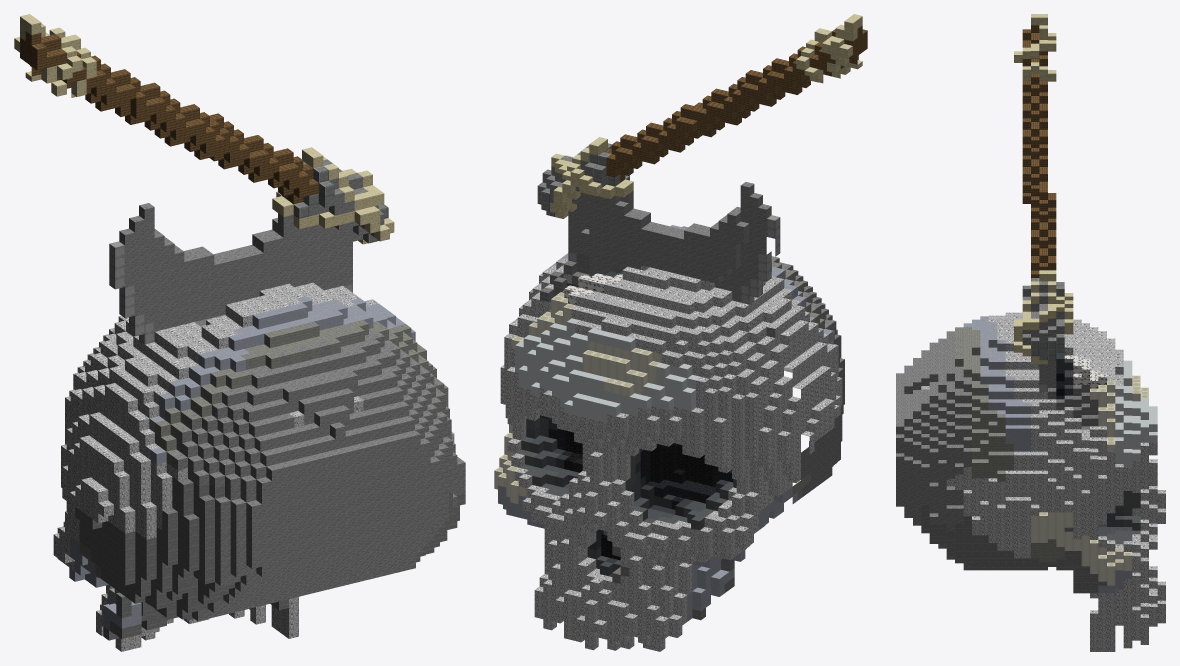
The model's file is Incursion.glb.
The picture shows the model from 3 angles, left to right: view 1: azimuth 30°, elevation 25°; view 2: azimuth 150°, elevation 25°; view 3: azimuth 270°, elevation 25°; orthographic projection. The views are drawn at different scales.
Visible parts, largest first — view 1: node_15, node_12, node_14, node_25, node_1, node_4, node_3, node_27, node_18, node_22, node_10, node_26 (+9 smaller); view 2: node_16, node_19, node_5, node_8, node_13, node_2, node_26, node_25, node_12, node_28, node_20, node_22 (+7 smaller); view 3: node_4, node_5, node_8, node_7, node_1, node_16, node_19, node_10, node_15, node_22, node_12, node_2 (+4 smaller).
Boxes of the visible parts, bbox=[...] form: node_15: bbox=[120, 314, 369, 565]; node_12: bbox=[119, 135, 323, 351]; node_14: bbox=[230, 422, 380, 568]; node_25: bbox=[69, 366, 199, 561]; node_1: bbox=[278, 148, 394, 329]; node_4: bbox=[324, 283, 465, 510]; node_3: bbox=[370, 416, 444, 537]; node_27: bbox=[79, 520, 199, 617]; node_18: bbox=[176, 555, 369, 621]; node_22: bbox=[20, 23, 136, 116]; node_10: bbox=[125, 77, 243, 159]; node_26: bbox=[61, 368, 109, 502]; node_16: bbox=[564, 271, 766, 473]; node_19: bbox=[564, 445, 746, 619]; node_5: bbox=[500, 260, 622, 432]; node_8: bbox=[494, 405, 582, 597]; node_13: bbox=[622, 130, 749, 292]; node_2: bbox=[537, 140, 628, 269]; node_26: bbox=[732, 336, 800, 471]; node_25: bbox=[767, 305, 844, 454]; node_12: bbox=[628, 122, 771, 297]; node_28: bbox=[722, 453, 800, 561]; node_20: bbox=[564, 602, 705, 651]; node_22: bbox=[766, 24, 867, 99]; node_4: bbox=[913, 359, 1047, 531]; node_5: bbox=[1048, 359, 1148, 527]; node_8: bbox=[1048, 517, 1157, 621]; node_7: bbox=[913, 509, 1047, 570]; node_1: bbox=[980, 252, 1047, 383]; node_16: bbox=[1056, 319, 1157, 477]; node_19: bbox=[1107, 470, 1165, 603]; node_10: bbox=[1022, 110, 1047, 222]; node_15: bbox=[913, 312, 1022, 397]; node_22: bbox=[1014, 25, 1047, 118]; node_12: bbox=[972, 218, 1047, 355]; node_2: bbox=[1048, 259, 1073, 373].
Size of the model in its own units: 40 by 69 by 32.
Materials: 1 (1 with a texture image).
